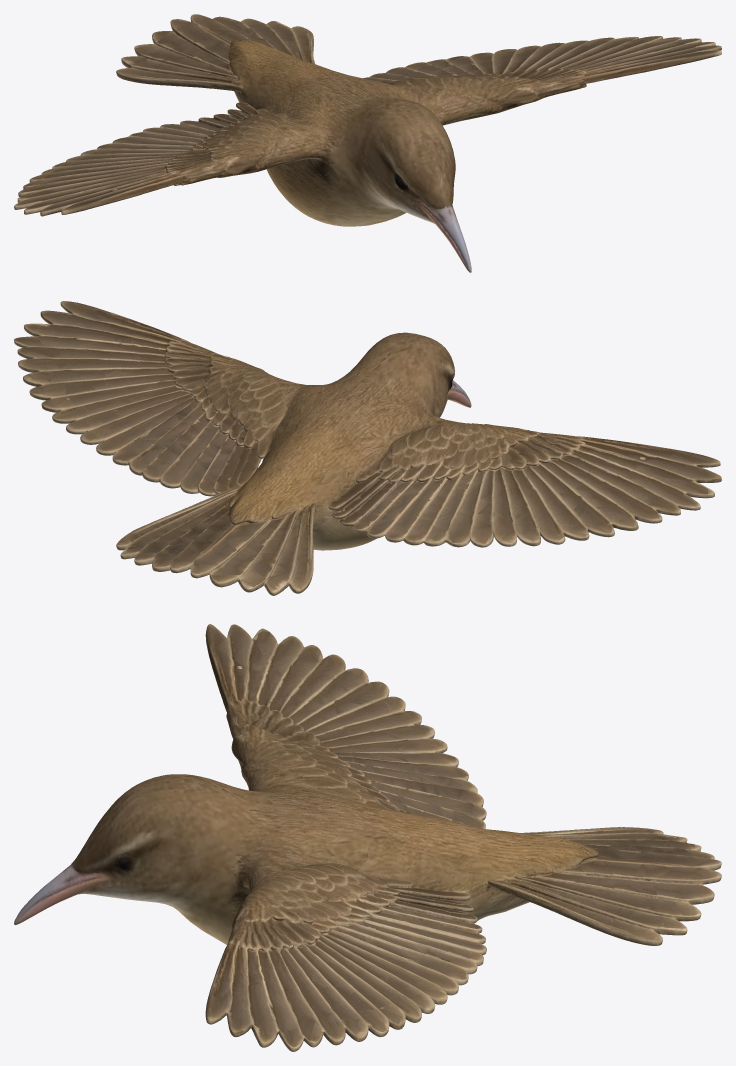
The model's file is Acrocephalus_arundinaceus.glb.
3 renders of one model, top to bottom at view 1: azimuth 30°, elevation 25°; view 2: azimuth 150°, elevation 25°; view 3: azimuth 270°, elevation 25°, orthographic. The views are drawn at different scales.
Parts seen in each view (by area): view 1: orient; view 2: orient; view 3: orient.
Part boxes in pixels (bbox=[...]): orient: bbox=[14, 14, 721, 272]; orient: bbox=[14, 301, 721, 595]; orient: bbox=[14, 624, 721, 1051].
Size of the model in its own units: 0.5 by 0.1057 by 0.3605.
Materials: 1 (1 with a texture image).
